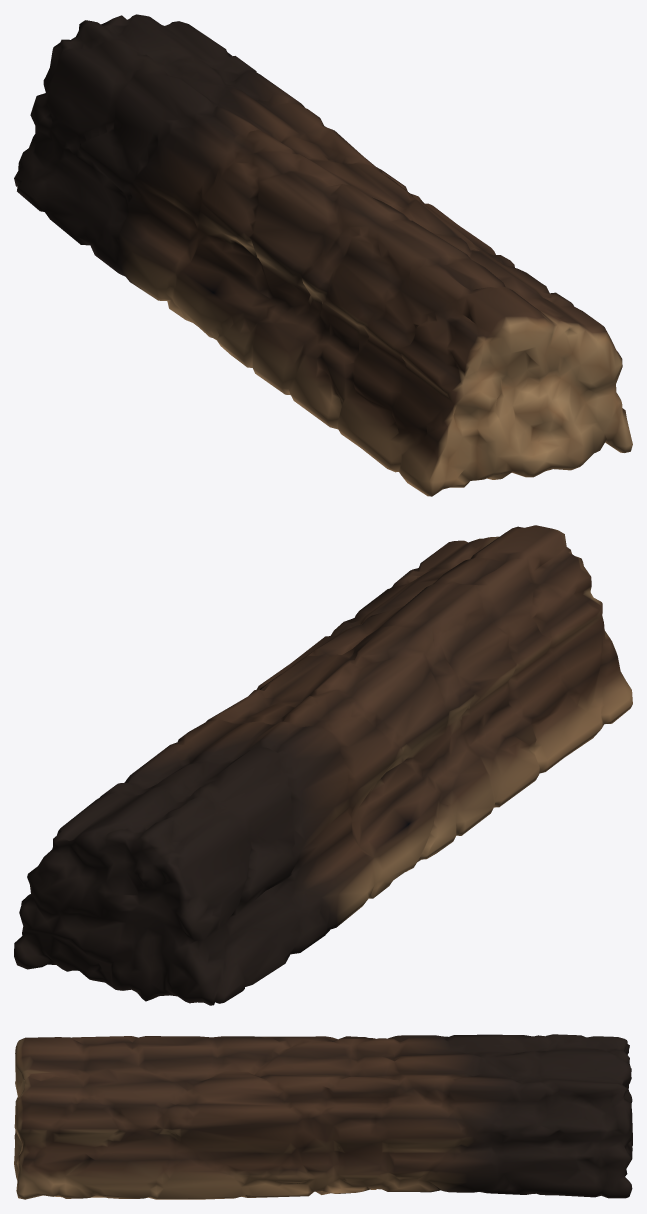
The model's file is ember_split_log_c.glb.
3 renders of one model, top to bottom at view 1: azimuth 30°, elevation 25°; view 2: azimuth 150°, elevation 25°; view 3: azimuth 270°, elevation 25°, orthographic. The views are drawn at different scales.
Visible parts, largest first — view 1: ember_split_log_c; view 2: ember_split_log_c; view 3: ember_split_log_c.
Part boxes in pixels (x1=…): ember_split_log_c: x1=14, y1=14, x2=632, y2=496; ember_split_log_c: x1=14, y1=525, x2=632, y2=1005; ember_split_log_c: x1=14, y1=1034, x2=632, y2=1199.
Size of the model in its own units: 16.16 by 12.68 by 56.96.
